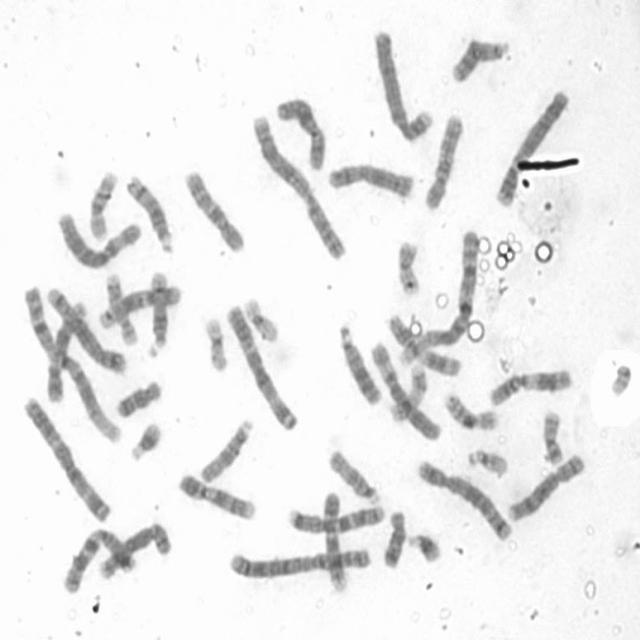A1: (19, 280, 123, 444), (394, 224, 482, 369)
A2: (247, 107, 349, 262), (223, 539, 375, 583)
A3: (19, 392, 114, 524), (223, 296, 300, 432)
B4: (492, 82, 571, 210), (370, 24, 436, 144)
B5: (413, 453, 515, 543), (41, 281, 128, 375)
C10: (180, 162, 248, 254), (419, 108, 466, 212)
C11: (384, 308, 466, 378), (484, 361, 576, 408)
C12: (42, 293, 90, 405), (94, 280, 185, 330)
C6: (367, 333, 444, 442), (53, 206, 142, 270)
C7: (59, 522, 138, 595), (284, 499, 386, 535)
C8: (503, 448, 588, 524), (95, 517, 173, 582)
C9: (174, 467, 258, 522), (318, 486, 350, 594)
D13: (335, 316, 385, 408), (446, 30, 512, 86)
D14: (122, 168, 177, 255), (144, 265, 174, 359)
D15: (195, 412, 256, 485), (325, 442, 384, 506)
E16: (440, 386, 501, 432), (84, 166, 120, 241)
E17: (102, 267, 140, 347), (387, 359, 428, 423)
E18: (112, 372, 164, 420), (378, 504, 408, 570)
F19: (240, 291, 282, 344), (200, 312, 231, 374)
F20: (393, 235, 423, 297), (538, 404, 566, 466)
G21: (125, 415, 164, 463), (404, 526, 444, 565)
G22: (463, 443, 510, 478), (606, 358, 633, 398)
X: (272, 92, 327, 172), (323, 156, 417, 200)
